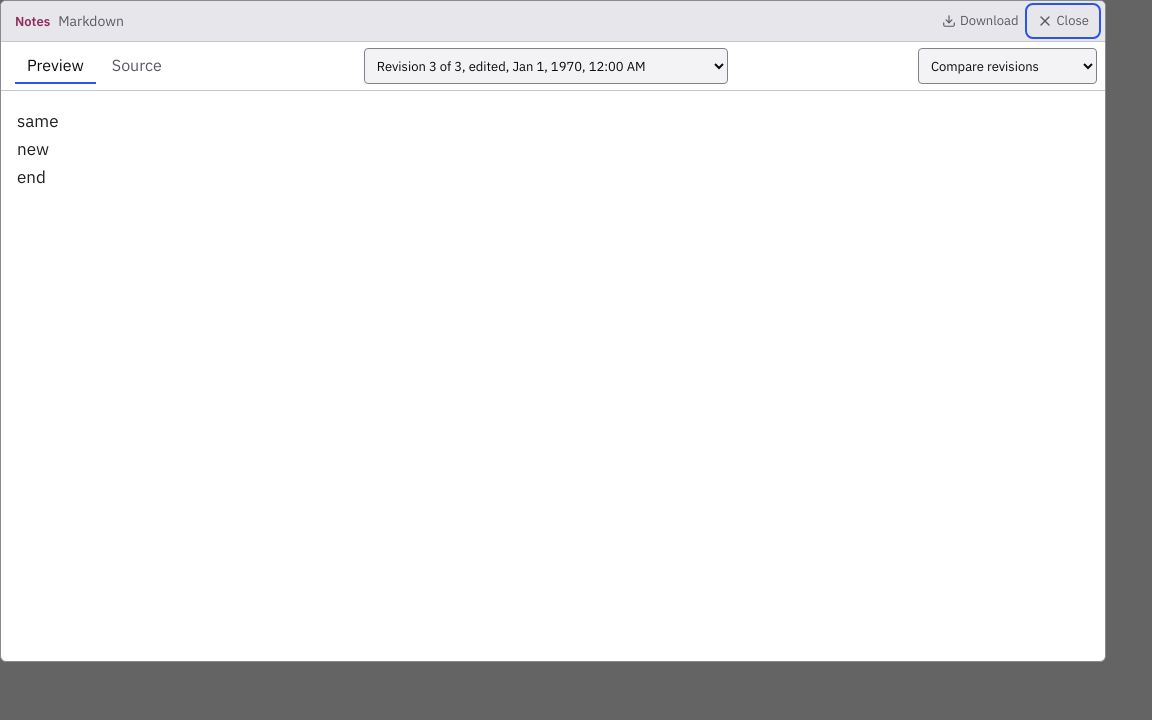
Test case: selects the Changes tab while comparing and lets the keyboard return to source
Select "Compare with revision 1" in the 2nd dropdown named "Compare with revision" at coordinates (1007, 66), box [918,48,1097,84]
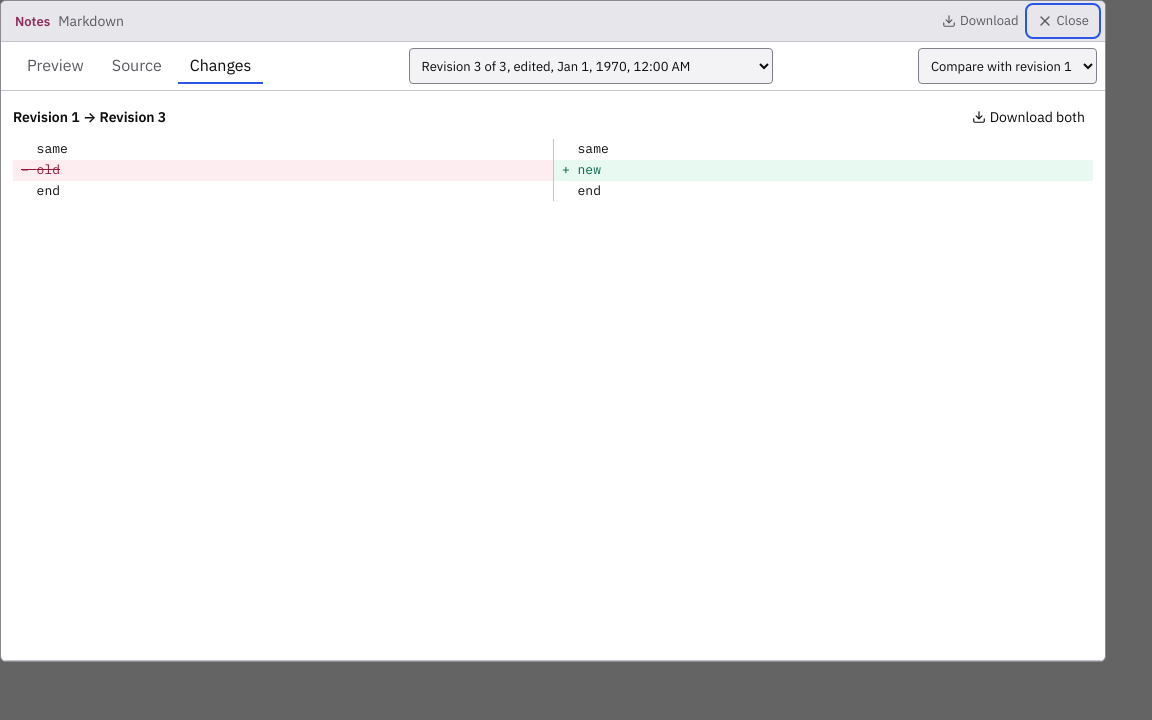
Expected: the panel named "Changes" shows "old", [37,161,60,178]
Press ArrowLeft in the tab "Changes", box [178,48,263,84]
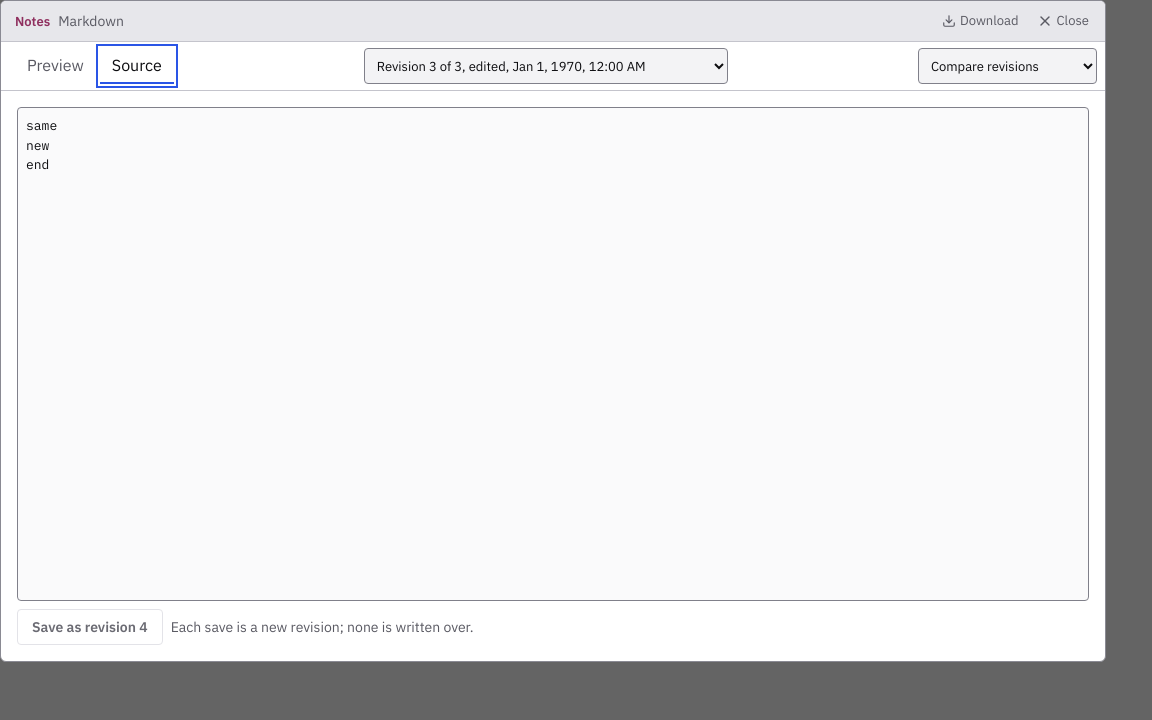
Expected: the panel named "Source" is shown
